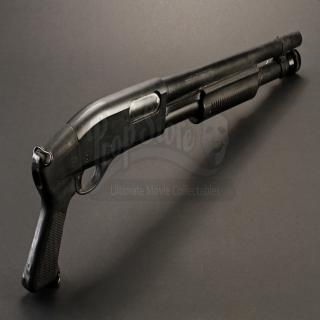gun: (17, 19, 307, 306)
